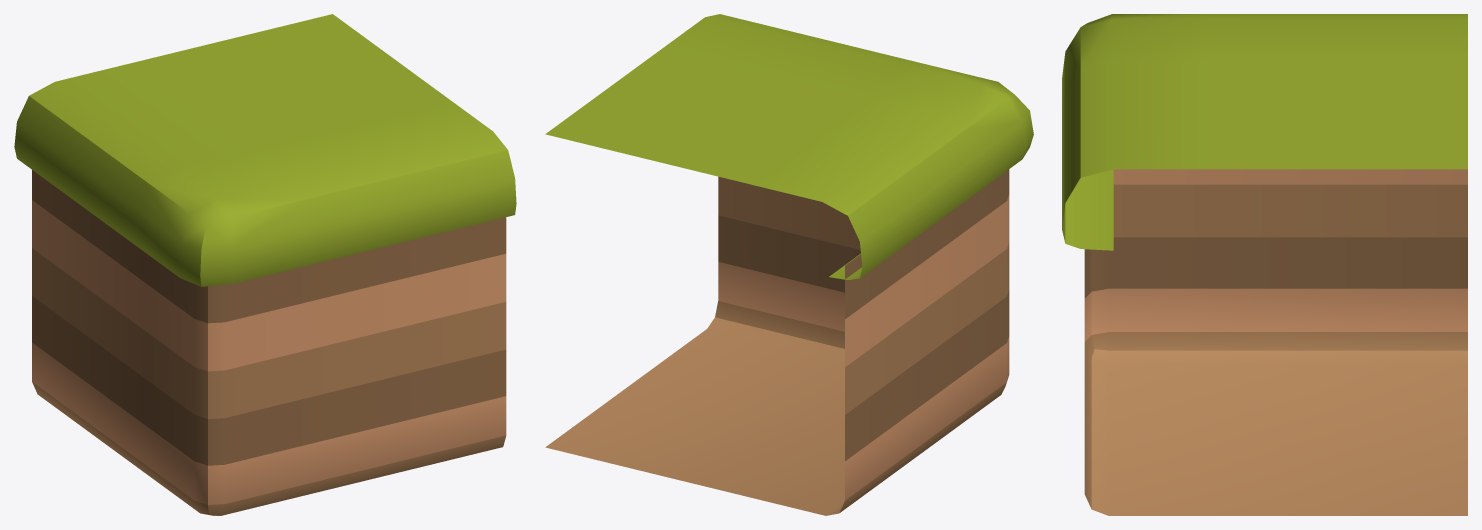
File: Cube_Grass_Corner.gltf
The picture shows the model from 3 angles, left to right: view 1: azimuth 30°, elevation 25°; view 2: azimuth 150°, elevation 25°; view 3: azimuth 270°, elevation 25°; orthographic projection. The views are drawn at different scales.
Visible parts, largest first — view 1: Cube_Grass_Corner; view 2: Cube_Grass_Corner; view 3: Cube_Grass_Corner.
Part boxes in pixels (x1,y1,x2,y2): Cube_Grass_Corner: [14, 14, 516, 515]; Cube_Grass_Corner: [545, 14, 1033, 515]; Cube_Grass_Corner: [1062, 14, 1467, 515].
Bounding box in the file's own units: 2.12 × 2 × 2.12.
